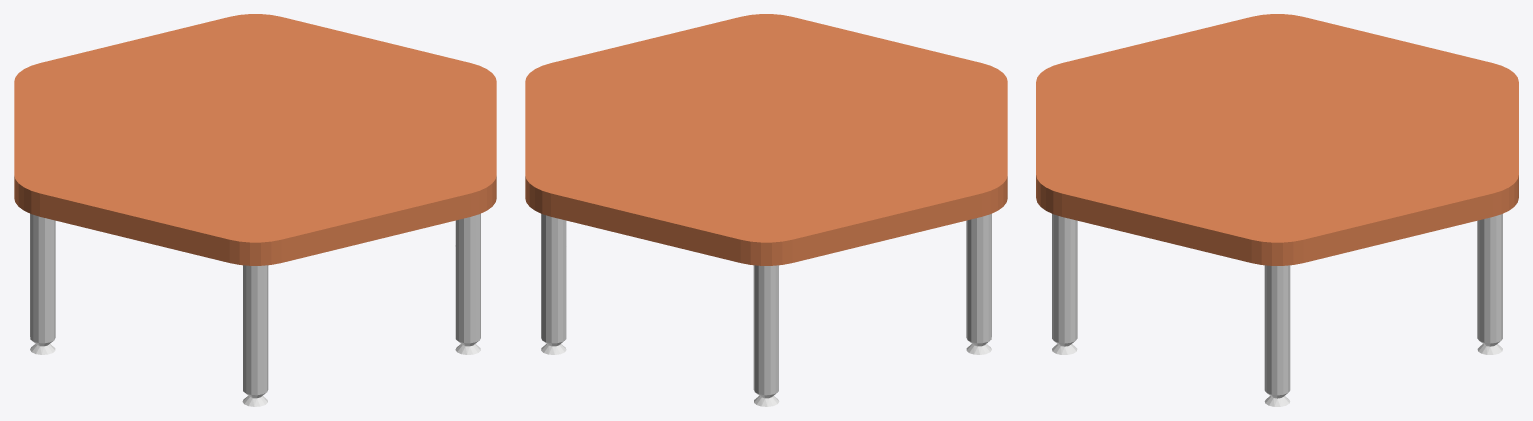
File: table.fbx
The picture shows the model from 3 angles, left to right: view 1: azimuth 30°, elevation 25°; view 2: azimuth 150°, elevation 25°; view 3: azimuth 270°, elevation 25°; orthographic projection.
Parts seen in each view (by area): view 1: table; view 2: table; view 3: table.
Boxes of the visible parts, x1,y1,x2,y2 form: table: [14, 14, 496, 406]; table: [525, 14, 1007, 406]; table: [1036, 14, 1518, 406].
Size of the model in its own units: 2097 by 725 by 1871.
